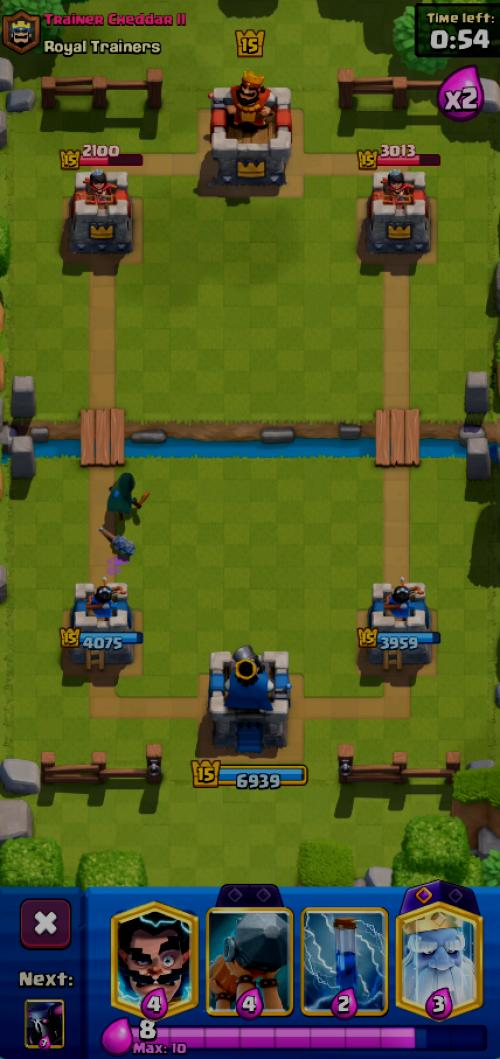Enemy-KingTower: (211, 73, 291, 189)
Enemy-PrincessTower: (366, 170, 430, 256), (69, 170, 132, 254)
